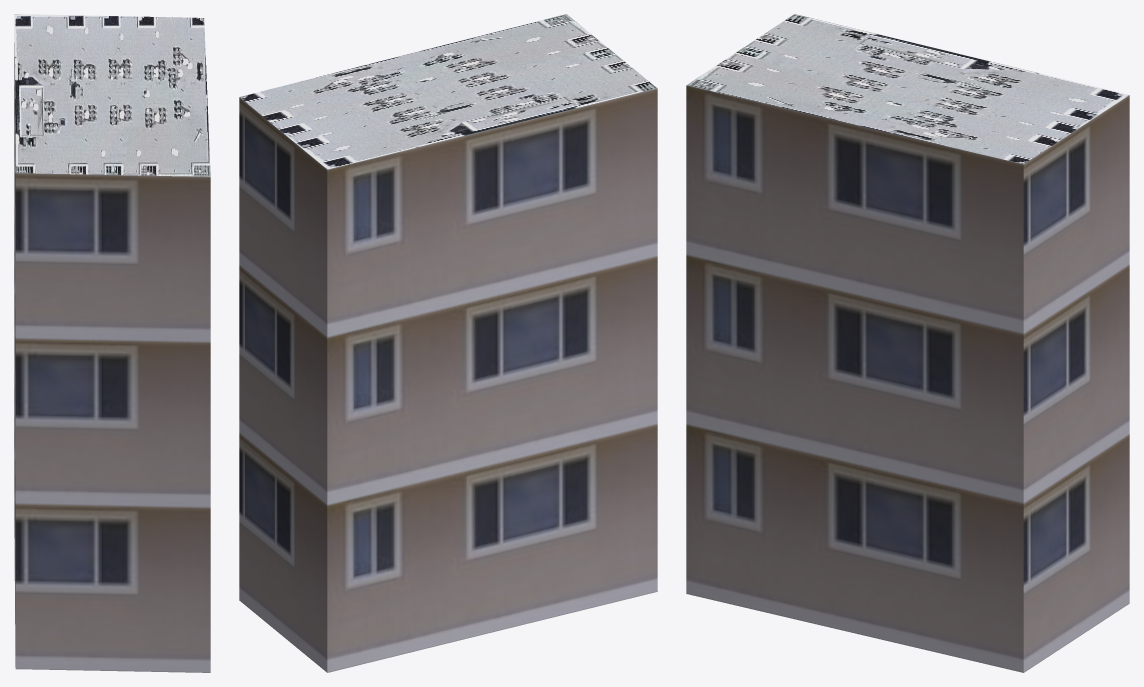
File: ResTex__634.fbx
3 renders of one model, left to right at view 1: azimuth 30°, elevation 25°; view 2: azimuth 150°, elevation 25°; view 3: azimuth 270°, elevation 25°, orthographic. The views are drawn at different scales.
Visible parts, largest first — view 1: CityEngineMaterial_21_m, CityEngineMaterial_8_m; view 2: CityEngineMaterial_21_m, CityEngineMaterial_8_m; view 3: CityEngineMaterial_21_m, CityEngineMaterial_8_m.
Boxes of the visible parts, x1,y1,x2,y2 form: CityEngineMaterial_21_m: [14, 42, 210, 672]; CityEngineMaterial_8_m: [14, 14, 210, 176]; CityEngineMaterial_21_m: [239, 88, 657, 672]; CityEngineMaterial_8_m: [239, 14, 657, 169]; CityEngineMaterial_21_m: [686, 85, 1129, 672]; CityEngineMaterial_8_m: [687, 14, 1128, 164].
Bounding box in the file's own units: 5.71 × 9 × 7.1.
2 materials, 2 textured.
